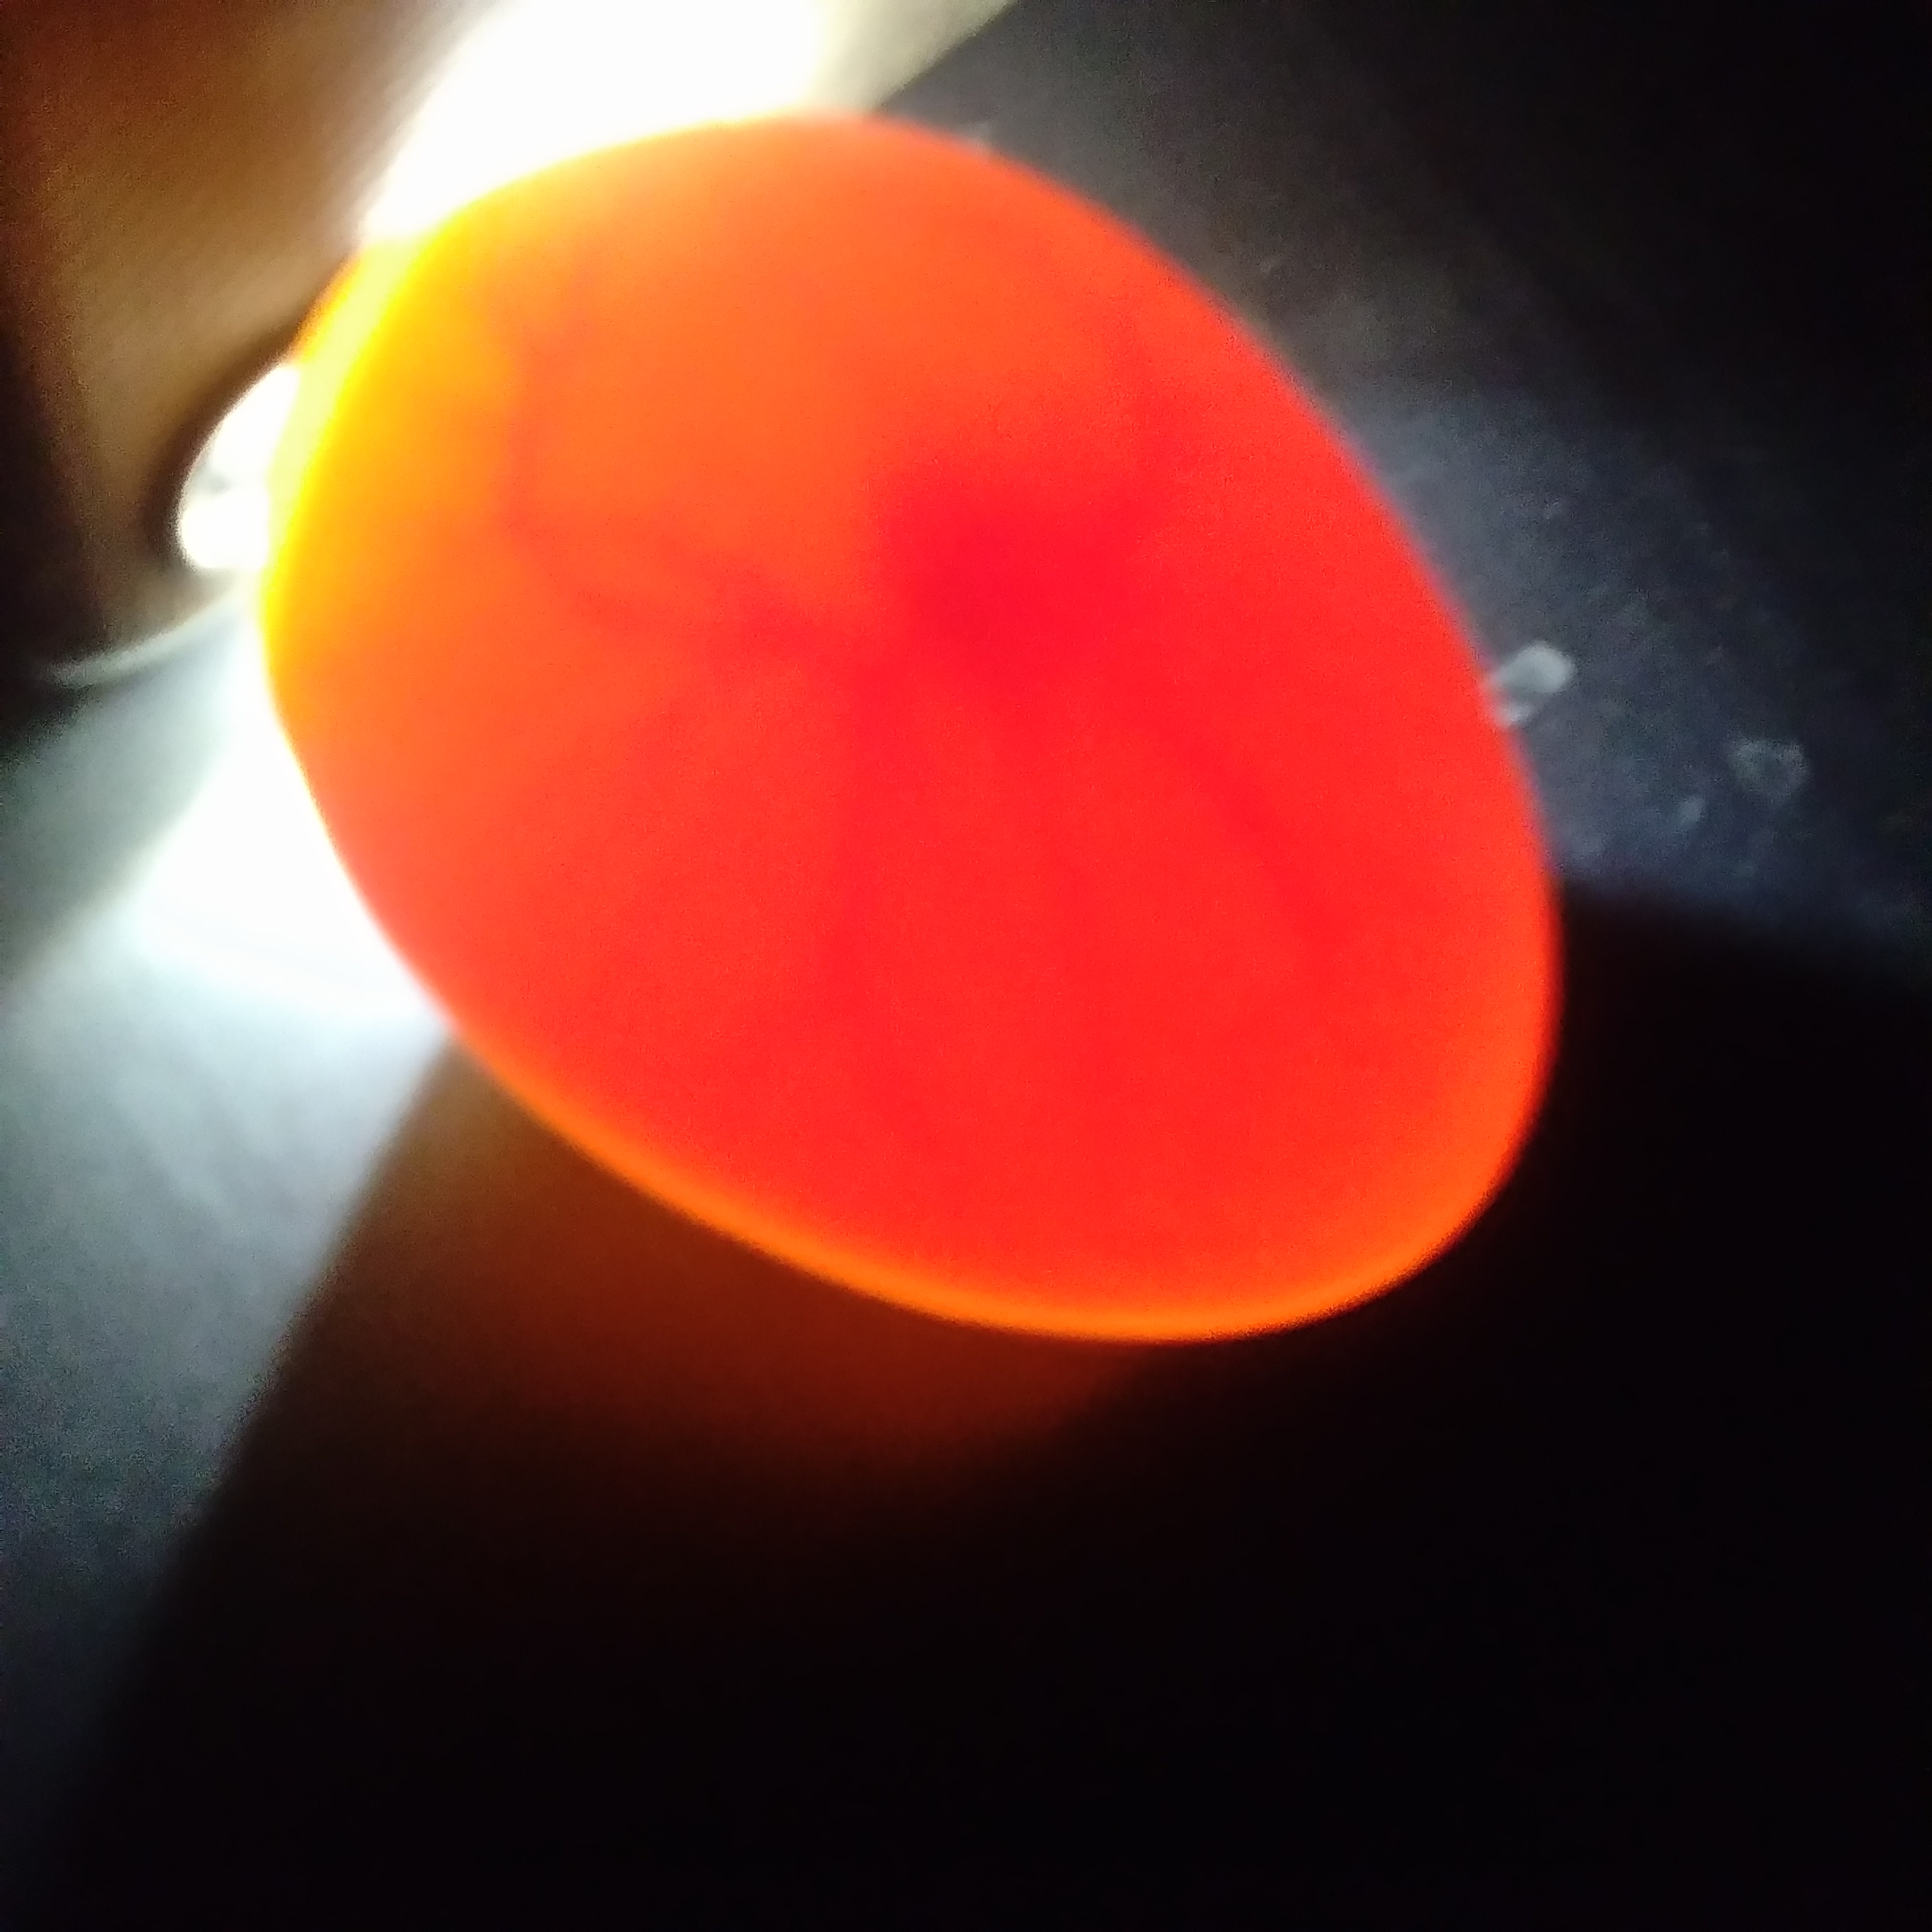bloodcell: (513, 262, 833, 984), (936, 738, 1433, 1095)
